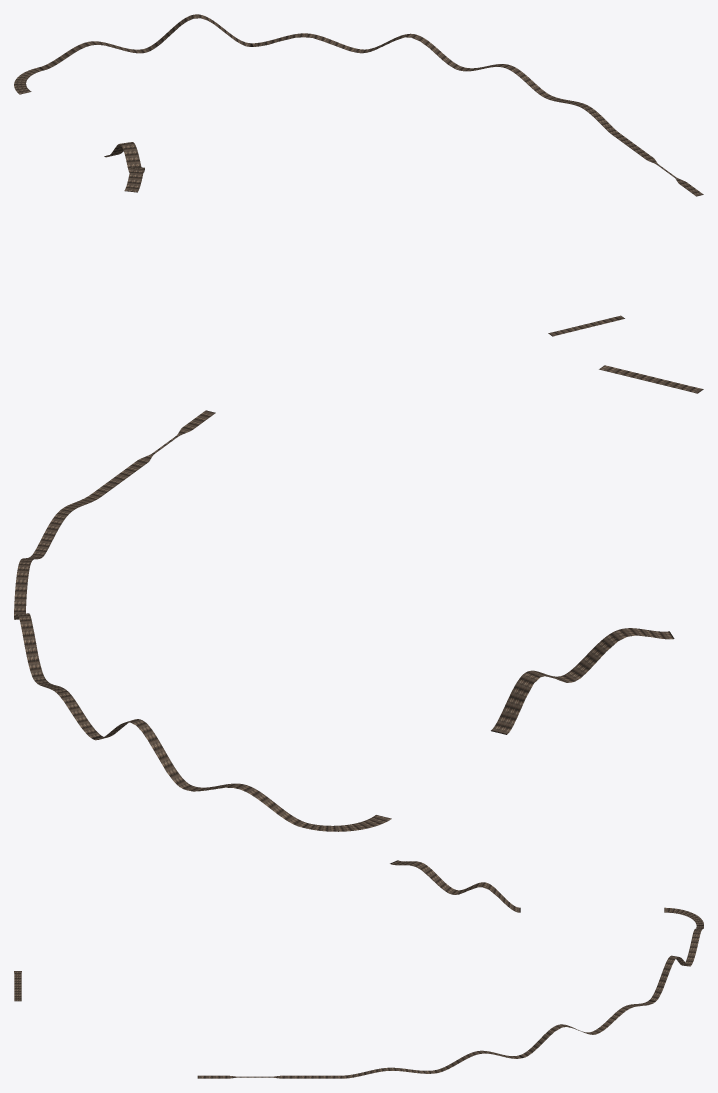
The model's file is Transparent.obj.
3 renders of one model, top to bottom at view 1: azimuth 30°, elevation 25°; view 2: azimuth 150°, elevation 25°; view 3: azimuth 270°, elevation 25°, orthographic. The views are drawn at different scales.
Bounding box in the file's own units: 9513 × 745 × 14411.
Materials: 1 (1 with a texture image).
